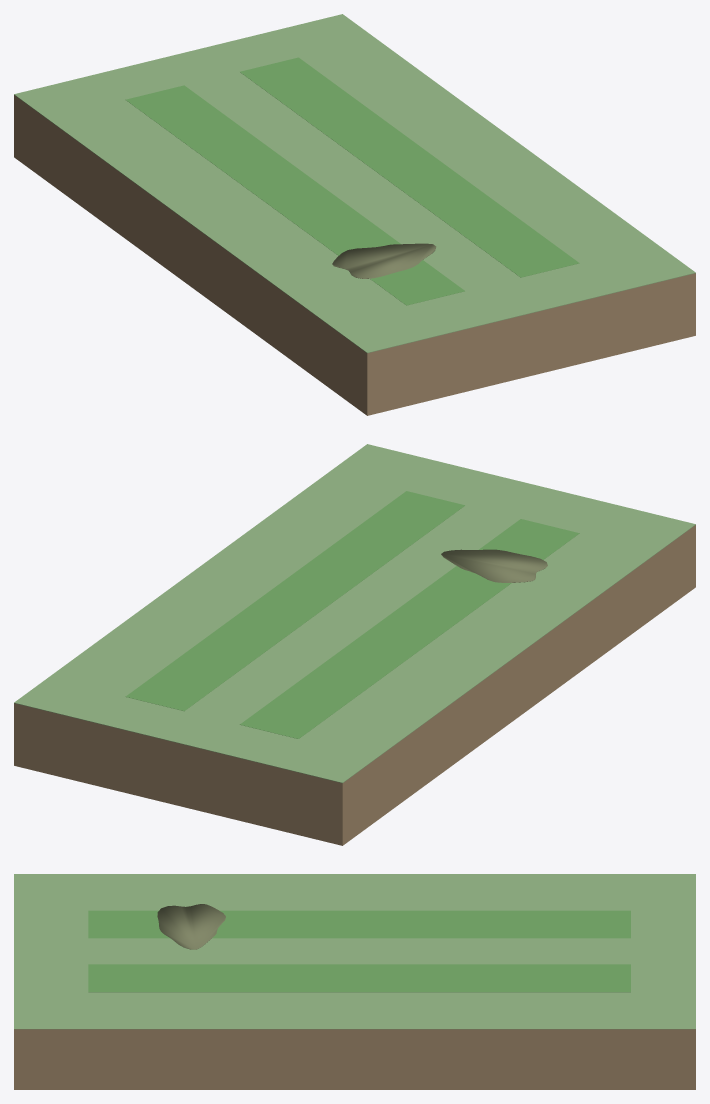
Rendered from septic_field_dbox.glb.
3 views of the same model, one above another, from view 1: azimuth 30°, elevation 25°; view 2: azimuth 150°, elevation 25°; view 3: azimuth 270°, elevation 25° (orthographic). The views are drawn at different scales.
Parts seen in each view (by area): view 1: grass, lush_strips, soil, soil_section, grass_section, wet_spot; view 2: grass, grass_section, soil, lush_strips, soil_section, wet_spot; view 3: grass, soil, grass_section, lush_strips, soil_section, wet_spot.
Boxes of the visible parts, x1,y1,x2,y2 form: grass: (14,14,695,353); lush_strips: (125,57,579,305); soil: (14,95,695,415); soil_section: (14,96,307,371); grass_section: (14,14,554,308); wet_spot: (332,243,436,278); grass: (14,444,695,783); grass_section: (15,489,635,782); soil: (14,525,695,845); lush_strips: (125,491,579,738); soil_section: (343,569,635,844); wet_spot: (441,549,547,582); grass: (14,874,695,1029); soil: (14,1029,695,1089); grass_section: (130,874,695,1029); lush_strips: (88,910,630,992); soil_section: (130,1029,695,1089); wet_spot: (157,904,225,949).
Size of the model in its own units: 7.89 by 1.45 by 14.68.
